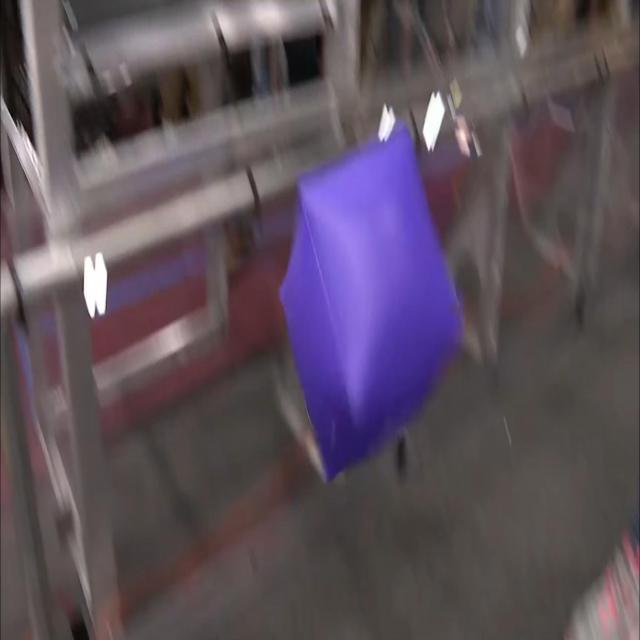frc_cube: (281, 121, 460, 490)
